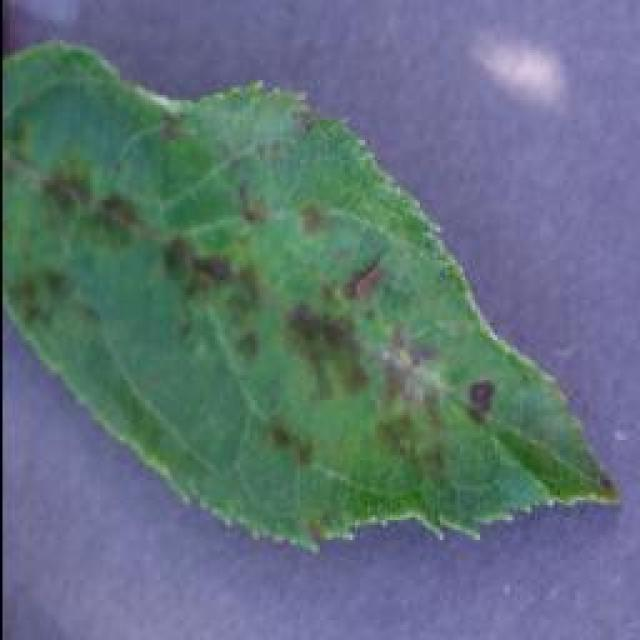apple scab disease: (0, 35, 620, 555)
